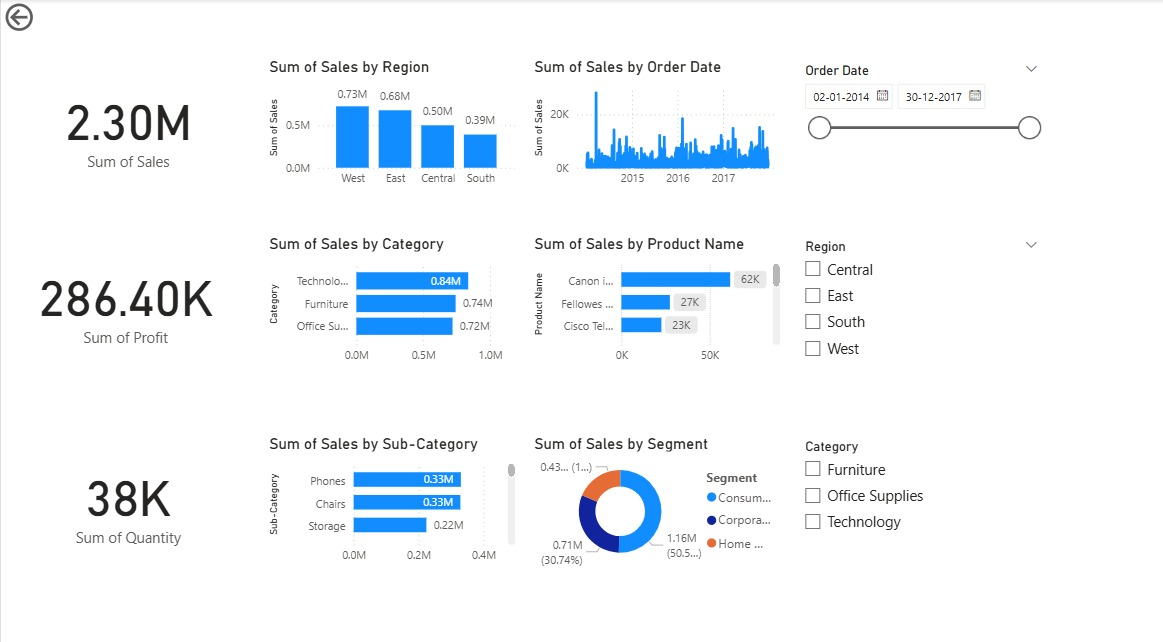

What the dashboard file says about the page in this screenshot:
{"tool":"powerbi","page":{"name":"Page 1","canvas":[1280,720],"ordinal":0},"visuals":[{"type":"card","fields":{"Values":["Sum(Sample - Superstore.Sales)"]},"box":[0,0,279.9,279.9],"z":0},{"type":"card","fields":{"Values":["Sum(Sample - Superstore.Profit)"]},"box":[0,223.7,274.4,219.6],"z":1000},{"type":"card","fields":{"Values":["Sum(Sample - Superstore.Quantity)"]},"box":[0,477.5,279.9,150.9],"z":2000},{"type":"lineClusteredColumnComboChart","fields":{"Category":["Sample - Superstore.Region"],"Y":["Sum(Sample - Superstore.Sales)"]},"box":[289.5,64.5,279.9,150.9],"z":3000},{"type":"clusteredBarChart","fields":{"Category":["Sample - Superstore.Category","Sample - Superstore.Sub-Category"],"Y":["Sum(Sample - Superstore.Sales)"]},"box":[289.5,258,279.9,150.9],"z":4000},{"type":"clusteredBarChart","fields":{"Category":["Sample - Superstore.Sub-Category"],"Y":["Sum(Sample - Superstore.Sales)"]},"box":[290,478,280,151],"z":5000},{"type":"lineChart","fields":{"Category":["Sample - Superstore.Order Date"],"Y":["Sum(Sample - Superstore.Sales)"]},"box":[580.4,64.5,279.9,150.9],"z":6000},{"type":"clusteredBarChart","fields":{"Category":["Sample - Superstore.Product Name"],"Y":["Sum(Sample - Superstore.Sales)"]},"box":[580.4,258,279.9,150.9],"z":7000},{"type":"donutChart","fields":{"Category":["Sample - Superstore.Segment"],"Y":["Sum(Sample - Superstore.Sales)"]},"box":[580.4,477.5,279.9,150.9],"z":8000},{"type":"slicer","fields":{"Values":["Sample - Superstore.Region"]},"box":[870,258,280,151],"z":10000},{"type":"slicer","fields":{"Values":["Sample - Superstore.Category"]},"box":[870,478,280,151],"z":11000},{"type":"actionButton","box":[0,0,100,40],"z":12000},{"type":"slicer","fields":{"Values":["Sample - Superstore.Order Date"]},"box":[870,64,280,151],"z":12001}]}

Visuals, with their boxes in screenshot pixels (x1, y1, x2, y2), scaled from the page's 1280x720 canvas onto the 1163x642 screenshot:
card - Sum(Sample - Superstore.Sales): locate(0, 0, 254, 250)
card - Sum(Sample - Superstore.Profit): locate(0, 199, 249, 395)
card - Sum(Sample - Superstore.Quantity): locate(0, 426, 254, 560)
lineClusteredColumnComboChart - Sample - Superstore.Region x Sum(Sample - Superstore.Sales): locate(263, 58, 517, 192)
clusteredBarChart - Sample - Superstore.Category x Sample - Superstore.Sub-Category: locate(263, 230, 517, 365)
clusteredBarChart - Sample - Superstore.Sub-Category x Sum(Sample - Superstore.Sales): locate(263, 426, 518, 561)
lineChart - Sample - Superstore.Order Date x Sum(Sample - Superstore.Sales): locate(527, 58, 782, 192)
clusteredBarChart - Sample - Superstore.Product Name x Sum(Sample - Superstore.Sales): locate(527, 230, 782, 365)
donutChart - Sample - Superstore.Segment x Sum(Sample - Superstore.Sales): locate(527, 426, 782, 560)
slicer - Sample - Superstore.Region: locate(790, 230, 1045, 365)
slicer - Sample - Superstore.Category: locate(790, 426, 1045, 561)
actionButton: locate(0, 0, 91, 36)
slicer - Sample - Superstore.Order Date: locate(790, 57, 1045, 192)
